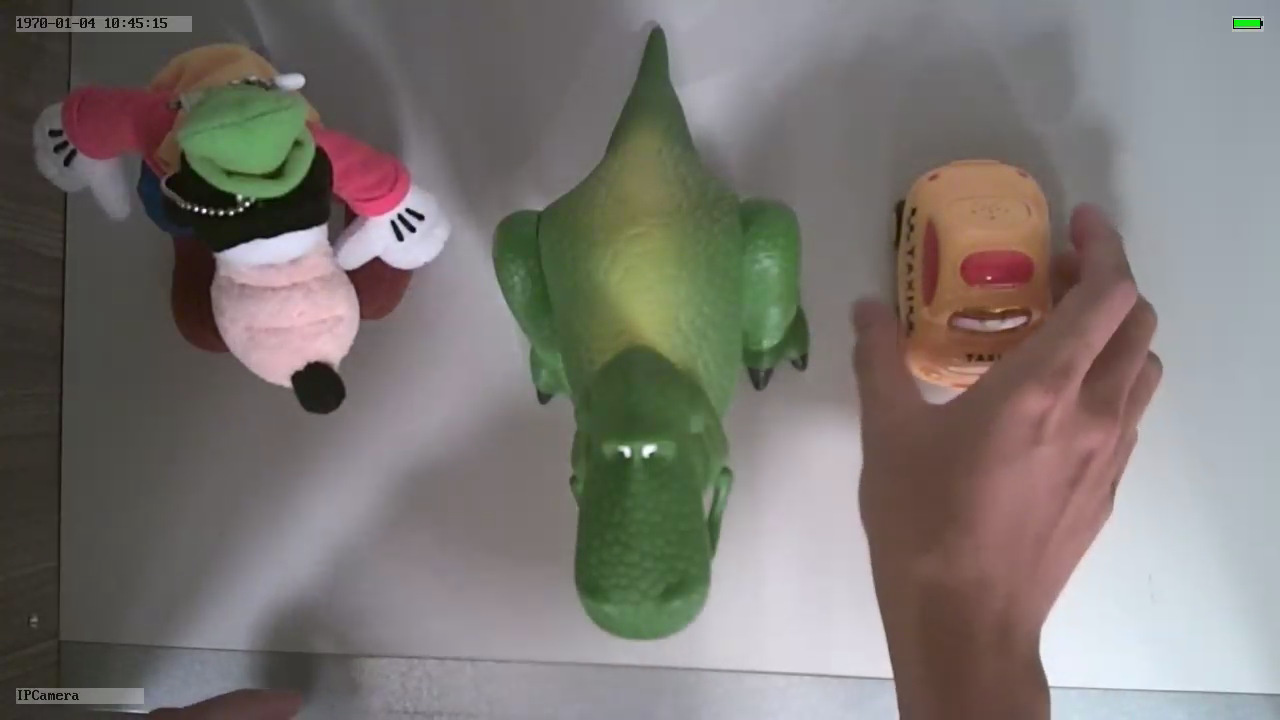goofy: (26, 37, 452, 416)
